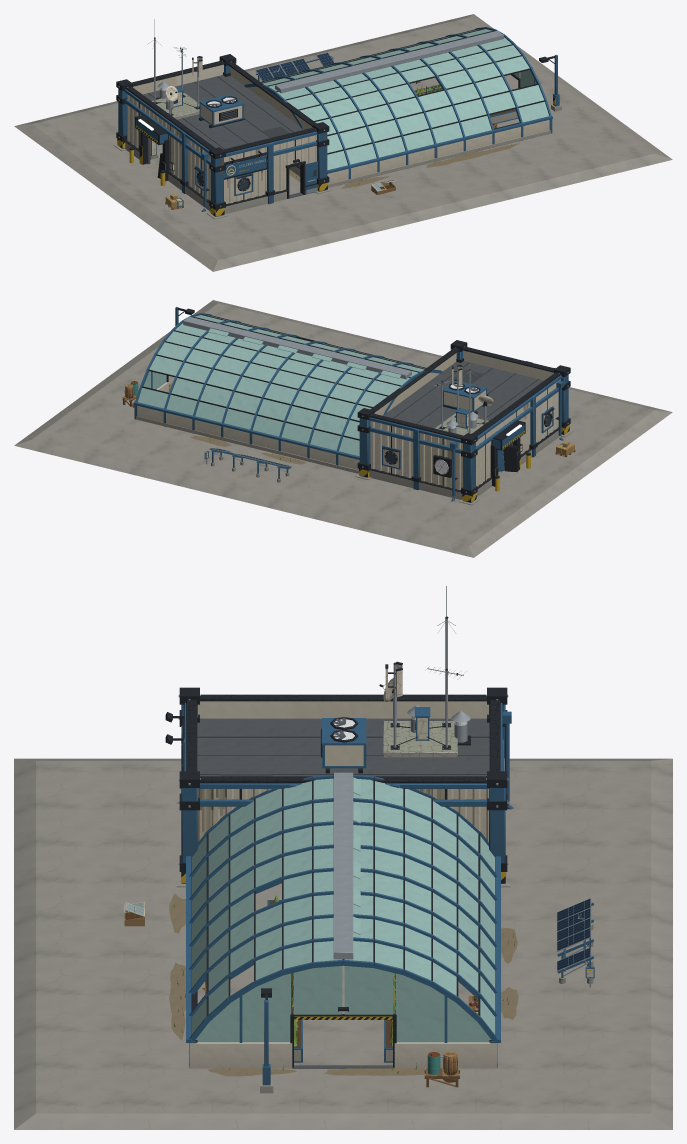
File: growlab.glb
3 renders of one model, top to bottom at view 1: azimuth 30°, elevation 25°; view 2: azimuth 150°, elevation 25°; view 3: azimuth 270°, elevation 25°, orthographic. The views are drawn at different scales.
Parts seen in each view (by area): view 1: growlab.001; view 2: growlab.001; view 3: growlab.001.
Boxes of the visible parts, x1,y1,x2,y2 form: growlab.001: (14,14,672,271); growlab.001: (14,300,672,557); growlab.001: (14,586,672,1129).
Size of what is drawn, in the model's own units: 40 by 11.6 by 30.
Materials: 114 (110 with a texture image).
